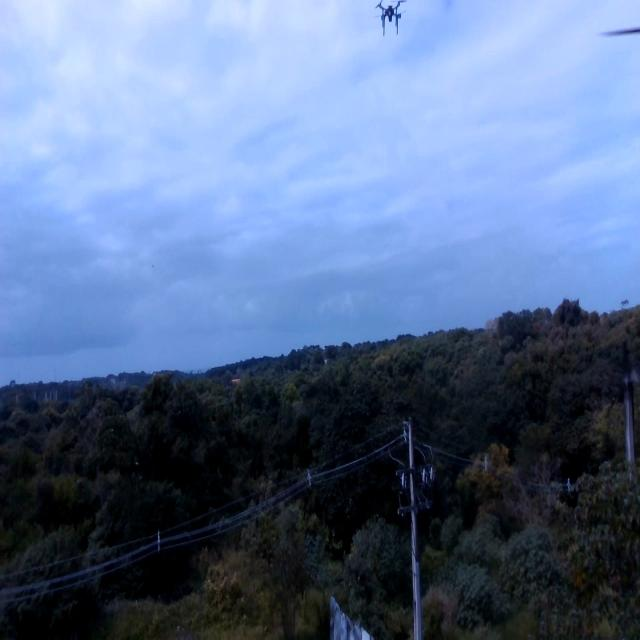-uav-: (370, 1, 409, 40)
